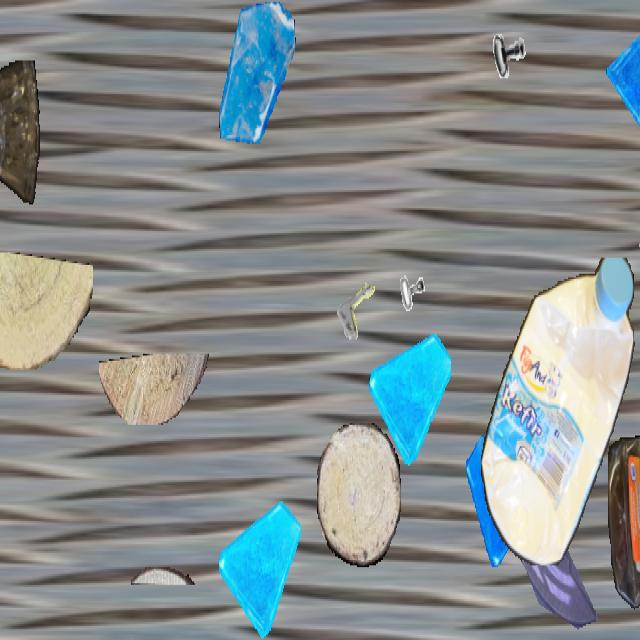glass: (513, 489, 597, 638), (219, 492, 301, 638), (369, 320, 451, 466), (217, 2, 297, 144), (466, 432, 542, 567), (606, 2, 640, 165)
metal: (333, 251, 393, 357), (387, 268, 437, 358), (489, 16, 529, 87), (632, 351, 640, 454), (637, 192, 640, 267)
plastic: (480, 257, 636, 564), (608, 436, 640, 638), (0, 60, 40, 206)
wood: (317, 423, 401, 565), (0, 252, 92, 370), (99, 354, 211, 425), (131, 567, 195, 585)
